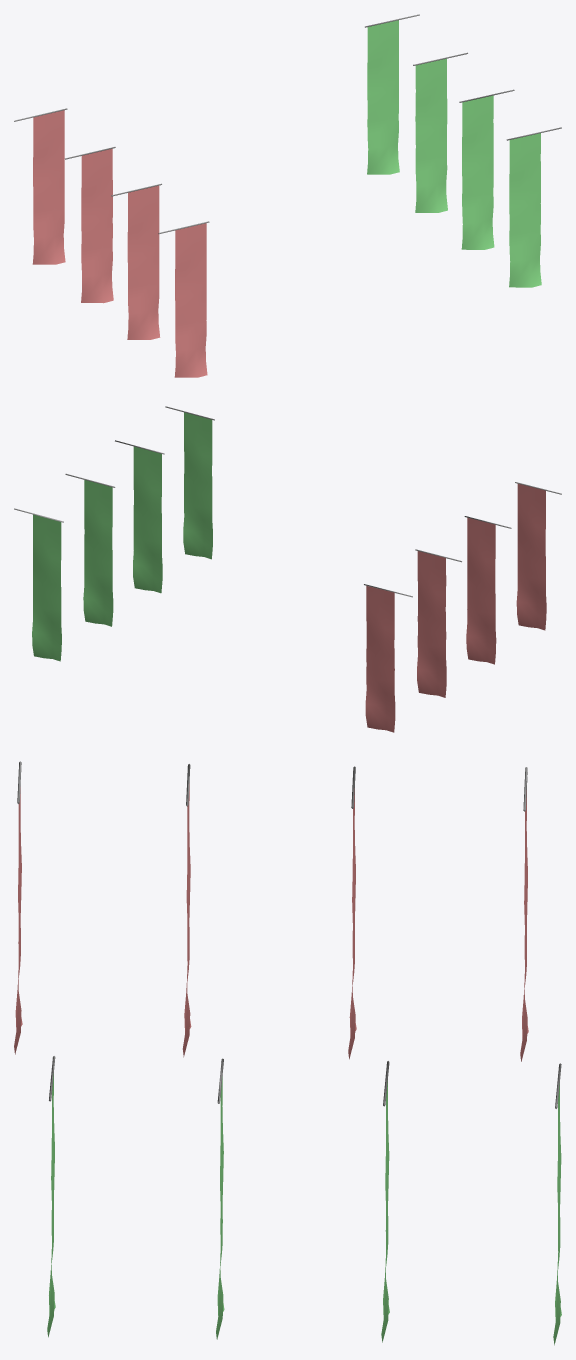
File: CS_TunnelBanners.gltf
3 views of the same model, one above another, from view 1: azimuth 30°, elevation 25°; view 2: azimuth 150°, elevation 25°; view 3: azimuth 270°, elevation 25° (orthographic). The views are drawn at different scales.
Parts seen in each view (by area): view 1: CS_TunnelBanners; view 2: CS_TunnelBanners; view 3: CS_TunnelBanners.
Boxes of the visible parts, x1,y1,x2,y2 form: CS_TunnelBanners: (14, 14, 561, 377); CS_TunnelBanners: (14, 406, 561, 732); CS_TunnelBanners: (14, 761, 561, 1345).
Size of the model in its own units: 18.65 by 6.51 by 12.56.
